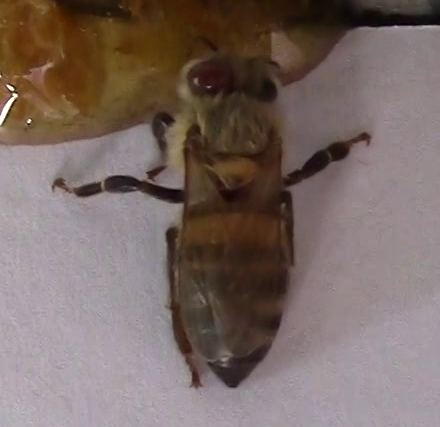Varroa destructor: (185, 58, 238, 98)
